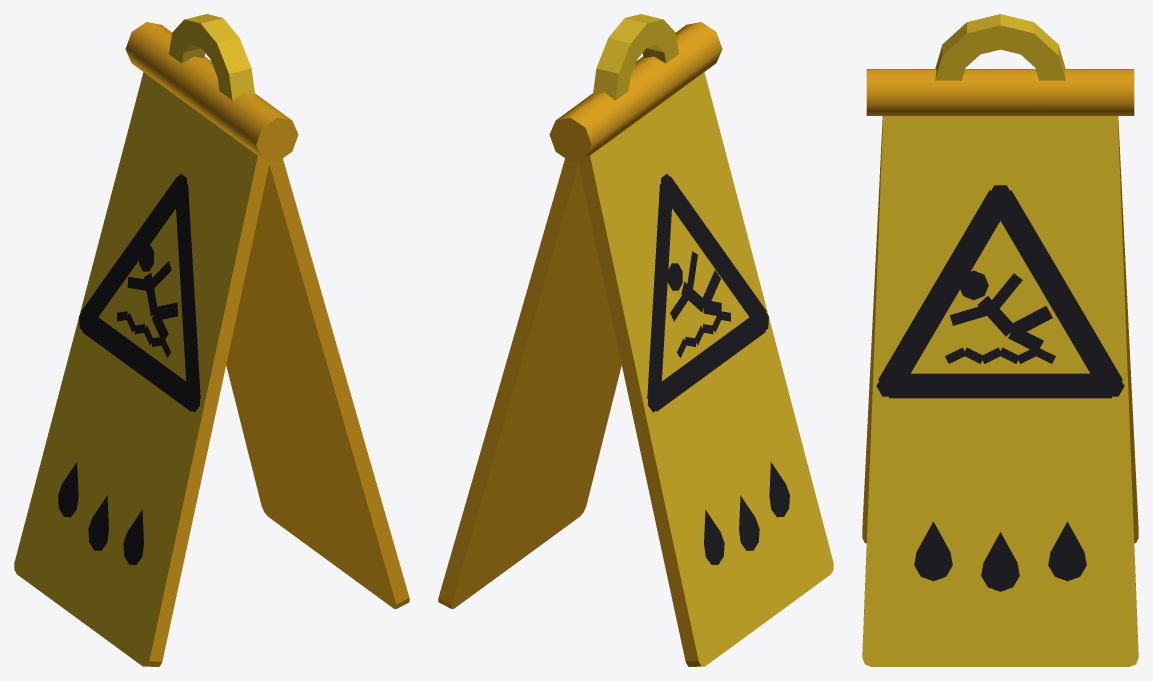
Rendered from wet_sign.glb.
The picture shows the model from 3 angles, left to right: view 1: azimuth 30°, elevation 25°; view 2: azimuth 150°, elevation 25°; view 3: azimuth 270°, elevation 25°; orthographic projection. The views are drawn at different scales.
Visible parts, largest first — view 1: WetSign; view 2: WetSign; view 3: WetSign.
Part boxes in pixels (box(x1,y1,x2,y2)): WetSign: box(14, 14, 409, 666); WetSign: box(438, 14, 833, 666); WetSign: box(862, 14, 1138, 666).
Bounding box in the file's own units: 0.35 × 0.7226 × 0.3092.
